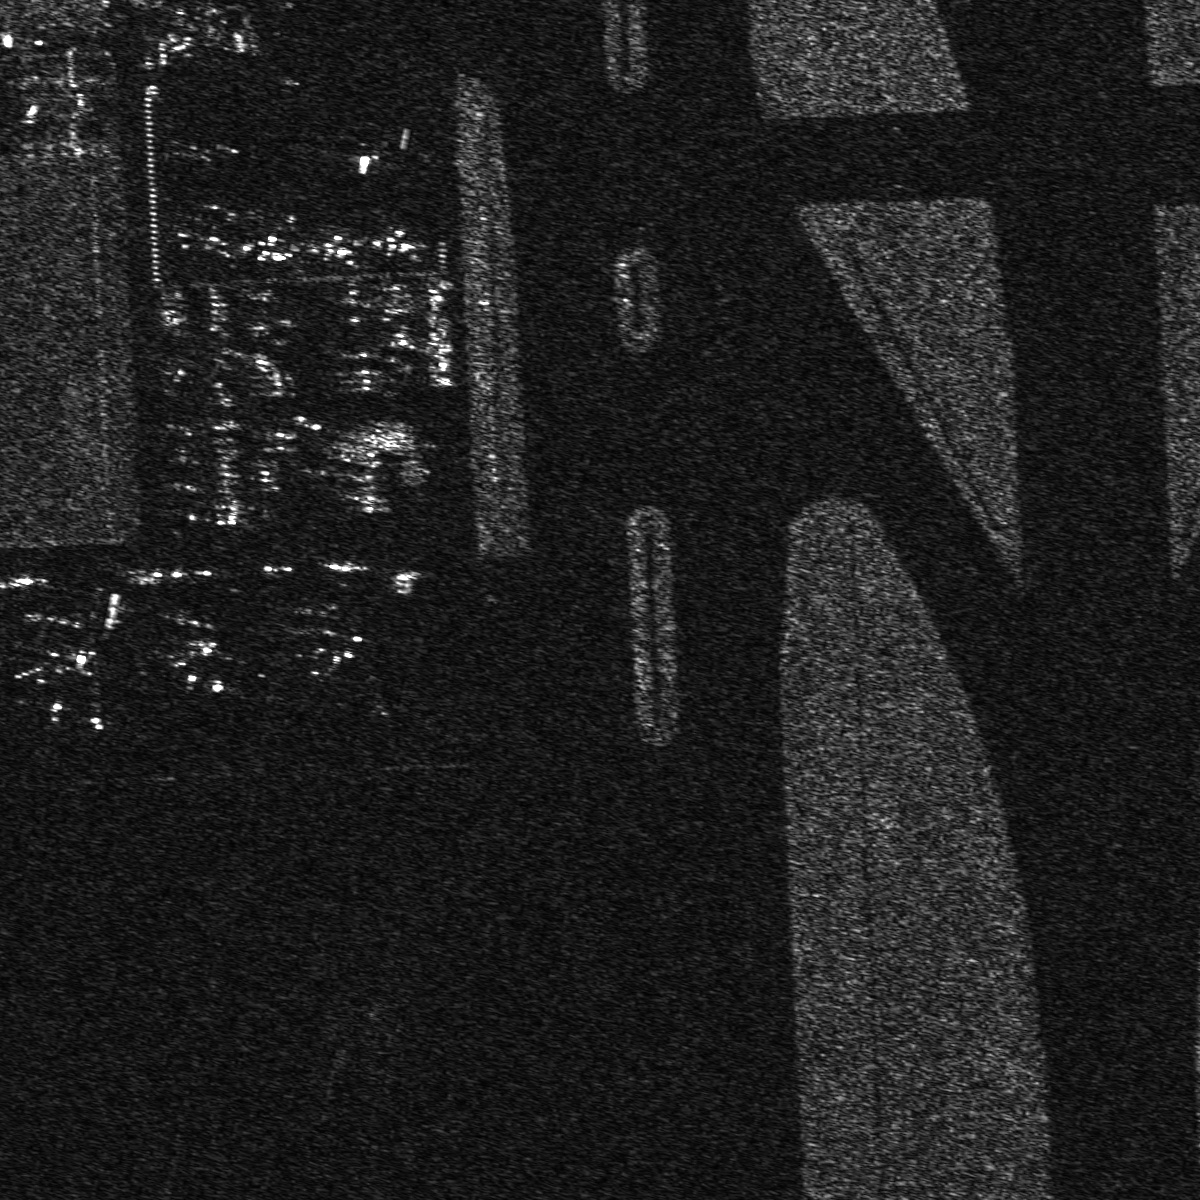ARJ21: (242, 231, 300, 264)
Boeing737: (170, 616, 246, 695), (296, 609, 371, 673)
other: (13, 636, 147, 731), (307, 226, 363, 268), (371, 225, 427, 265)
